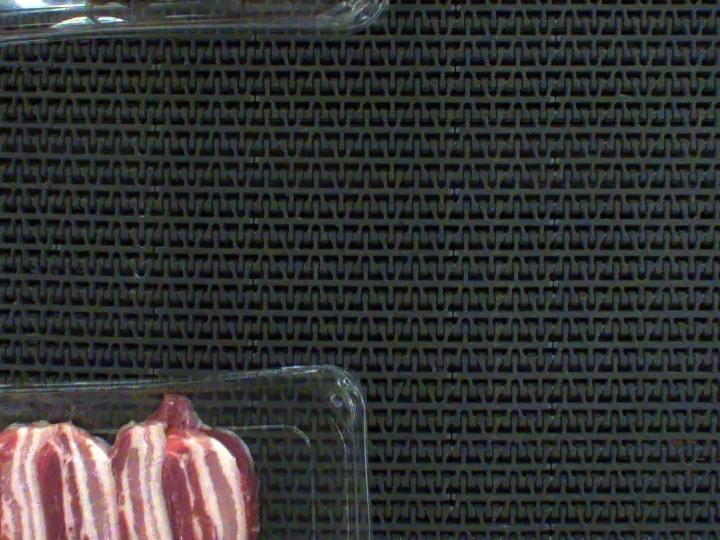packaging-error: (0, 363, 260, 447)
